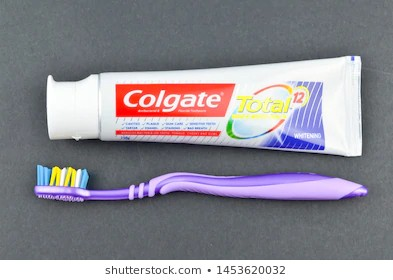colgate-total-150gm: (40, 51, 363, 150)
toothbrush: (33, 156, 372, 210)
